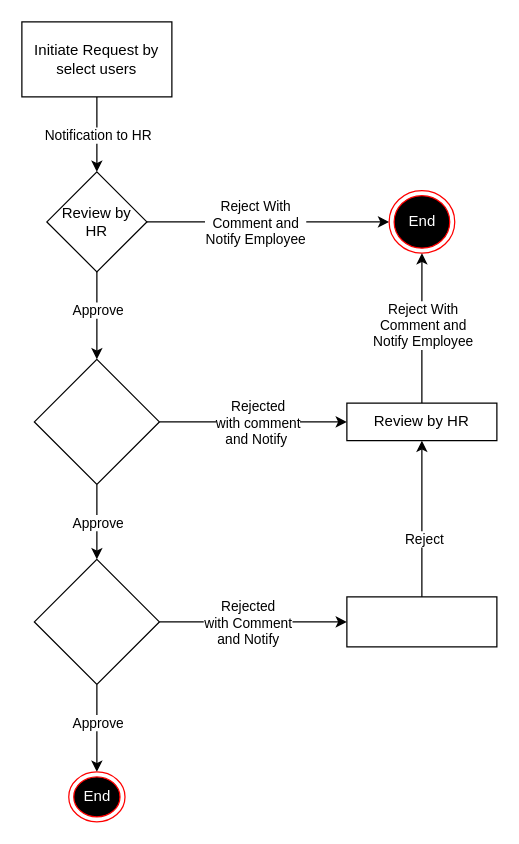
The diagram is 519 pixels wide and 844 high, and some of its shapes have lost their labels. Here are the shapes that lost their labels. From the top down, the centre of each, then its label:
point (96, 421): Review by Finance Dept.
point (96, 621): Review by General Manager
point (421, 621): Review by Finance Dept
